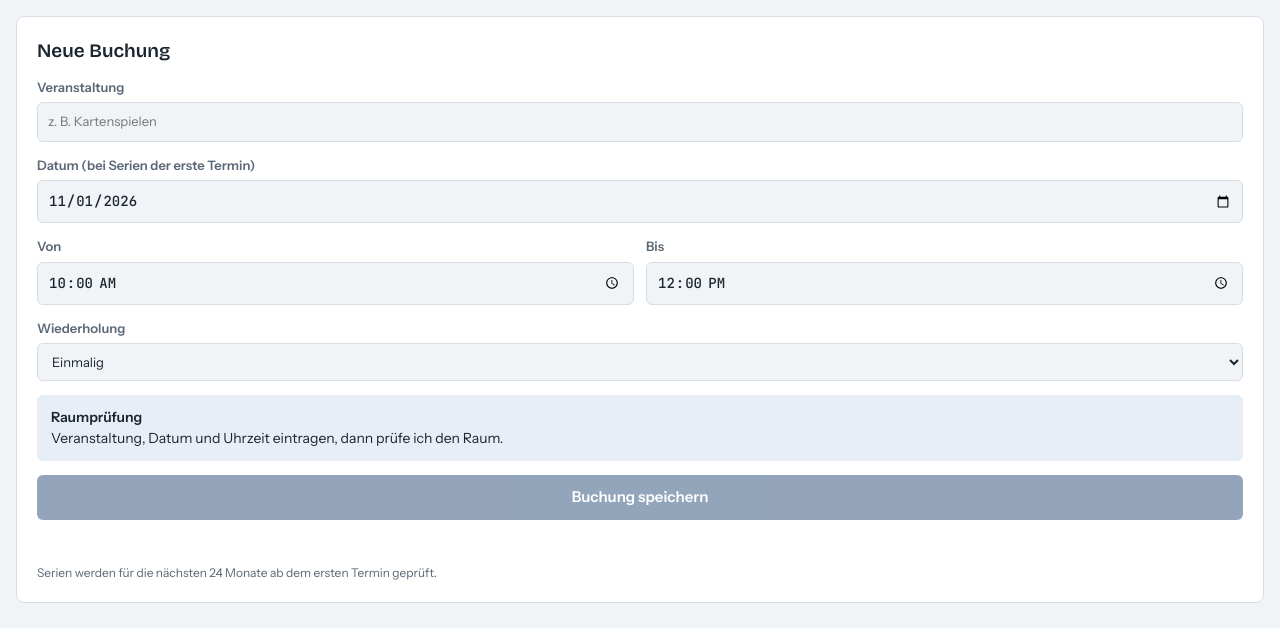
Test case: BookingForm › sends force: true after "Trotzdem speichern"
The width and height of the screenshot is (1280, 628).
Type "Chor" into the field labelled "Veranstaltung". click: coordinates (640, 122)
box: [37, 102, 1243, 142]
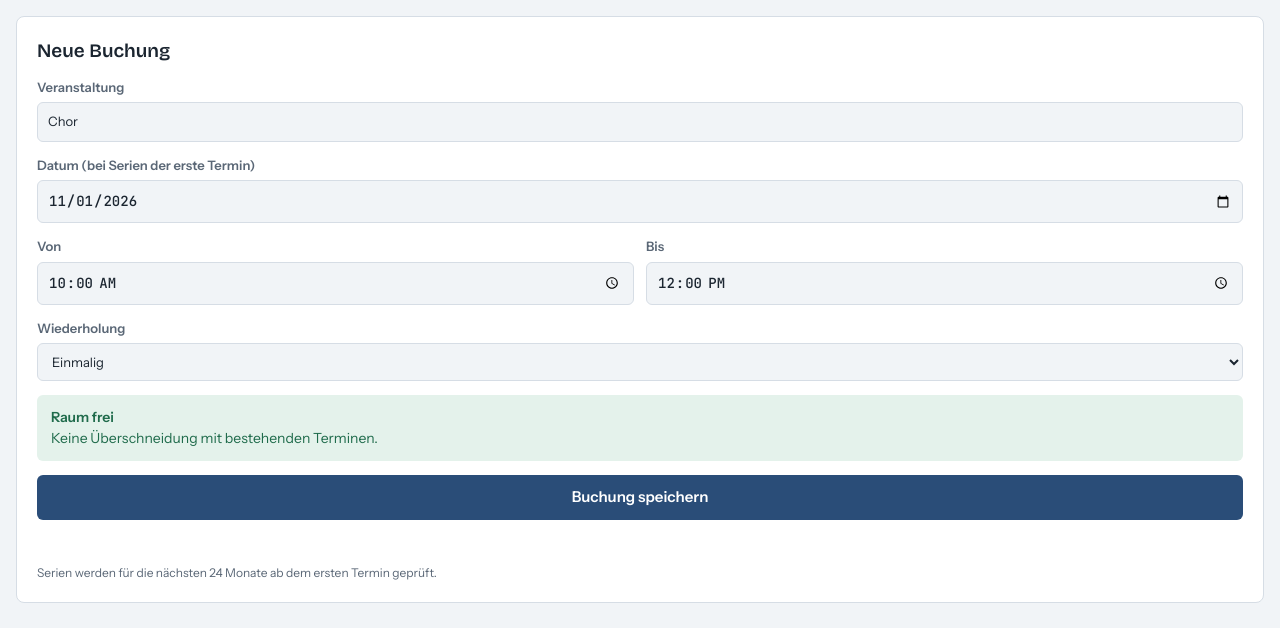
Type "2026-12-15" into the date field labelled "Datum (bei Serien der erste Termin)". click: coordinates (640, 202)
box: [37, 180, 1243, 223]
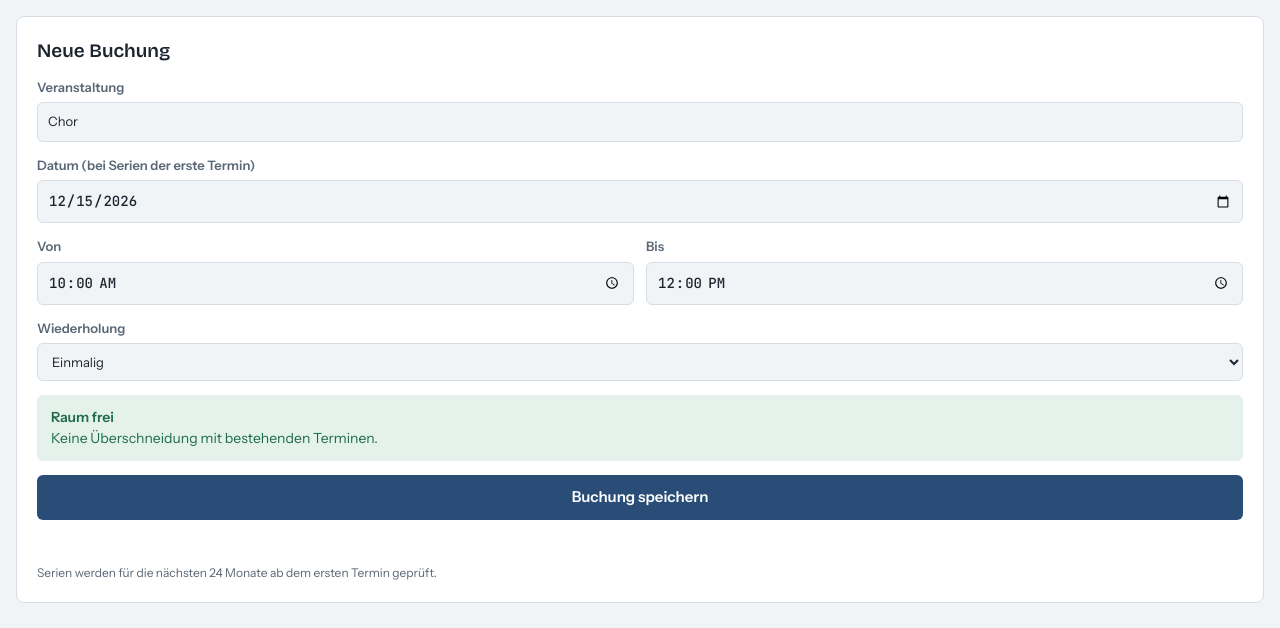
Replace the text in the time field labelled "Von" with "16:00". click: coordinates (336, 283)
box: [37, 262, 634, 304]
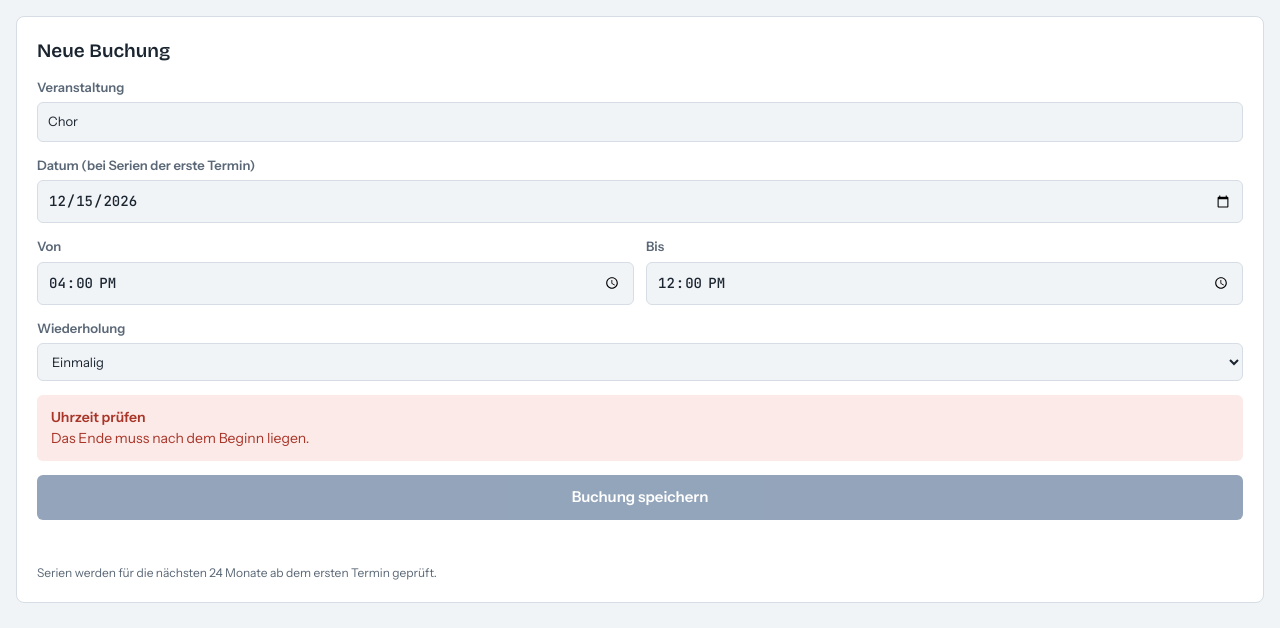
Replace the text in the time field labelled "Bis" with "18:00". click: coordinates (944, 283)
box: [646, 262, 1243, 304]
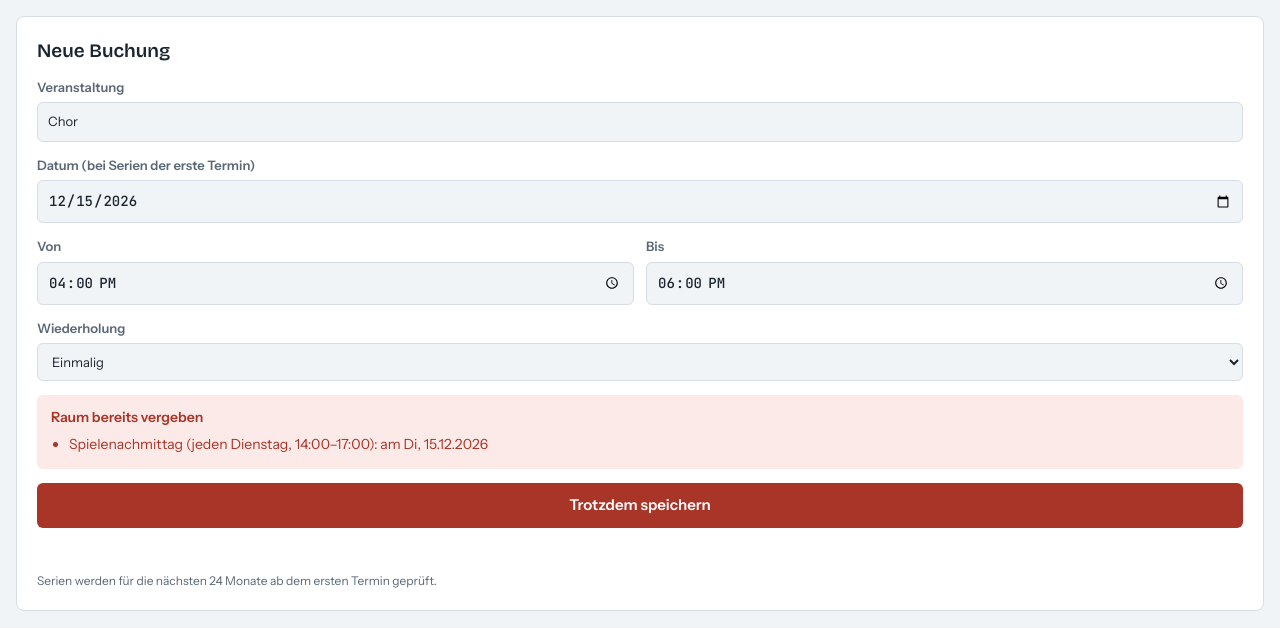
Click the button "Trotzdem speichern". click: coordinates (640, 505)
box: [37, 483, 1243, 528]
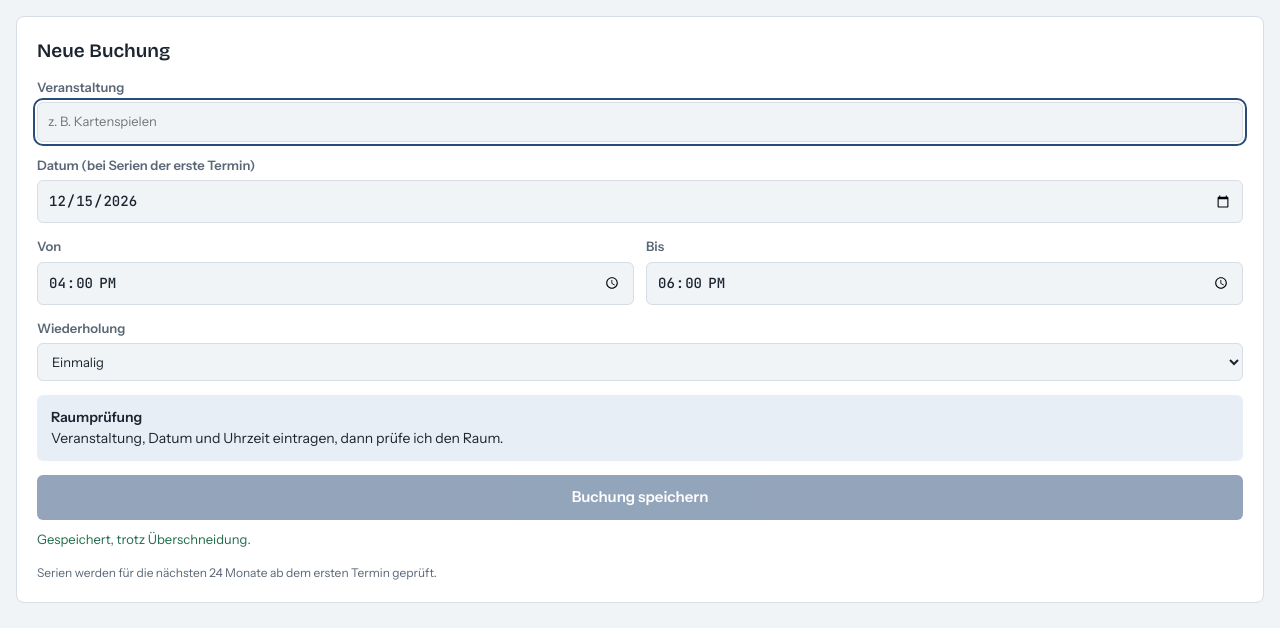
Result: the text "Gespeichert, trotz Überschneidung." is shown at [37, 530, 251, 546]
